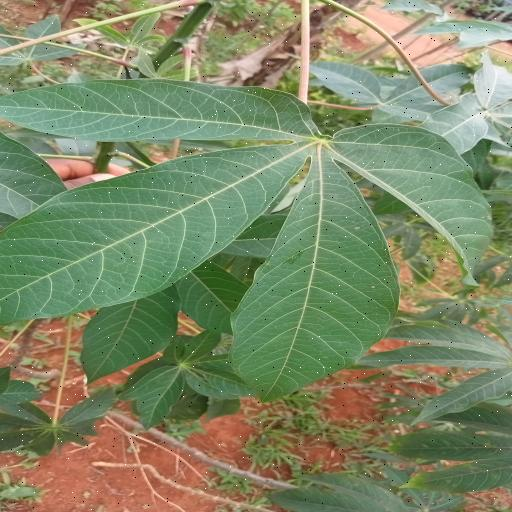Cassava_Healthy: (0, 78, 504, 405)
